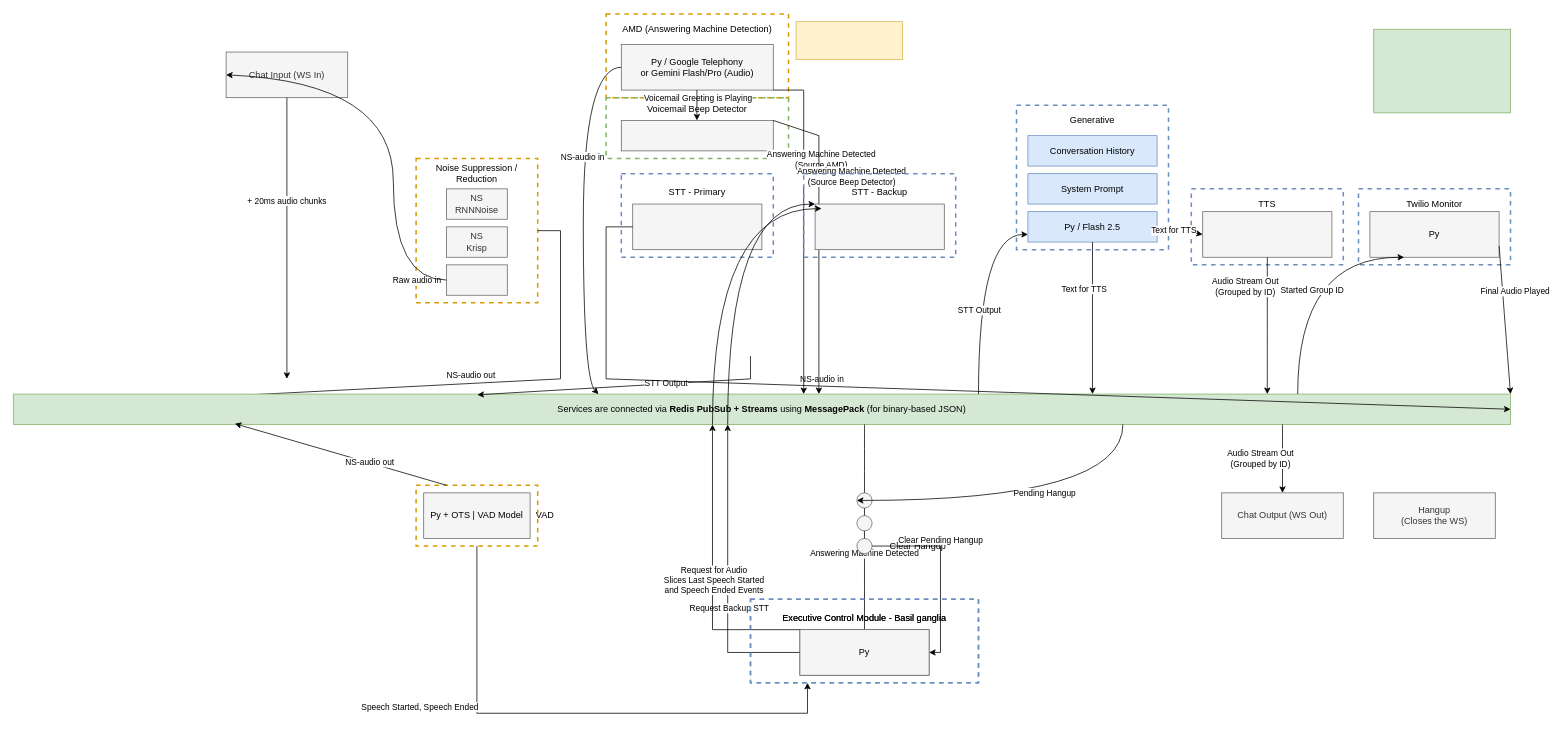
This 1563x733 diagram has some shape labels left out. Each missing label, with the centre of its shape:
Incoming: Backchanneling Feedback / Filler Words / Interjections: pixel 1441 70
NOTE: Latency can be as low as 150ms for this interaction (p95): pixel 848 40
NS Koala: pixel 476 279
Py / Chirp-3 HD: pixel 1267 234
Py / Google Telephony: pixel 697 226
Py / Google Telephony Short: pixel 879 226
Python: pixel 697 135
